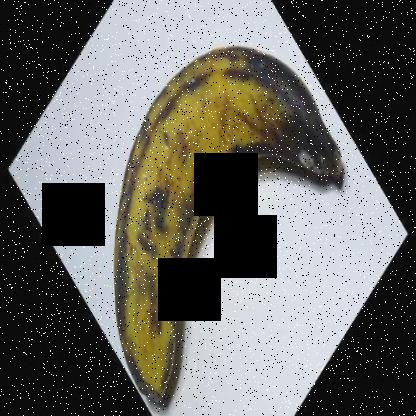overripe: (84, 27, 356, 415)
rotten: (231, 27, 356, 181)
